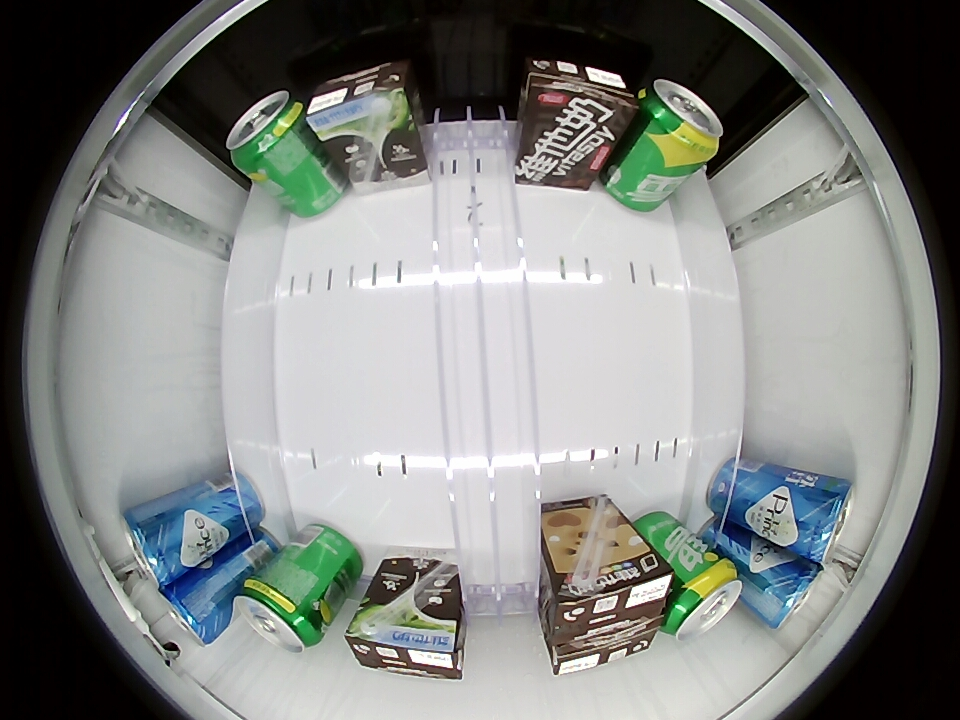qingdaowangzi-2: (792, 476, 855, 563), (753, 555, 824, 629), (122, 505, 185, 587), (157, 576, 230, 645)
weitanai2: (552, 551, 673, 642), (521, 58, 635, 135), (305, 62, 415, 141), (344, 608, 465, 679), (548, 622, 660, 676)
xuebi2: (636, 77, 723, 163), (234, 576, 326, 653), (226, 89, 310, 172), (662, 559, 743, 640)
